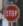Stop sign: (0, 0, 22, 25)
